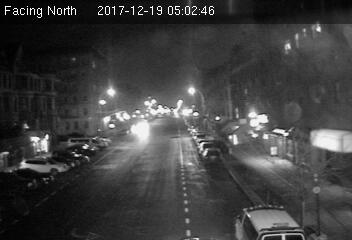police: (230, 206, 309, 240)
